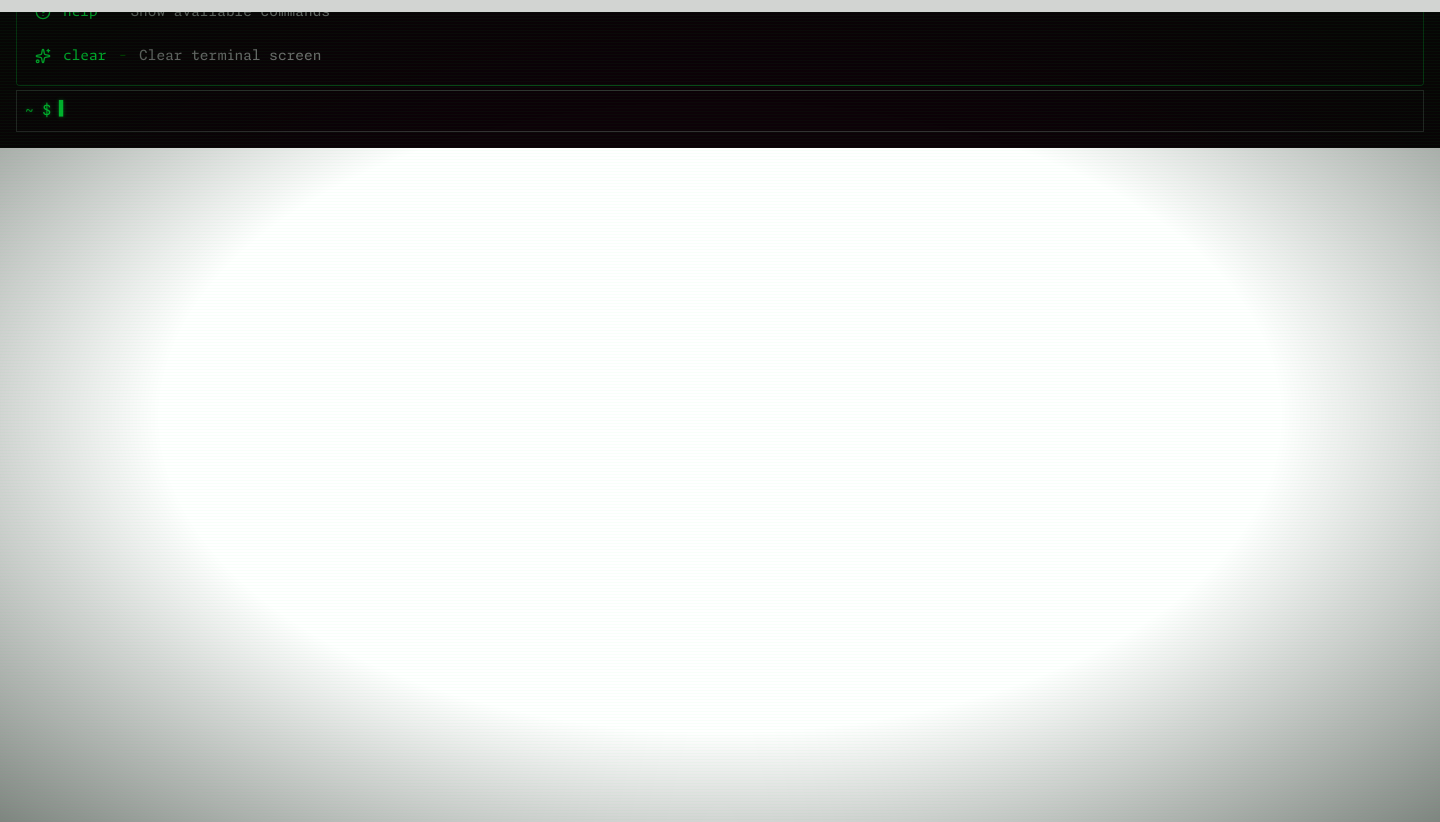
Test case: suggestion filtering (mobile) › filters suggestions by prefix as user types
Type "sk" into the field at (737, 112), box [59,102,1415,122]
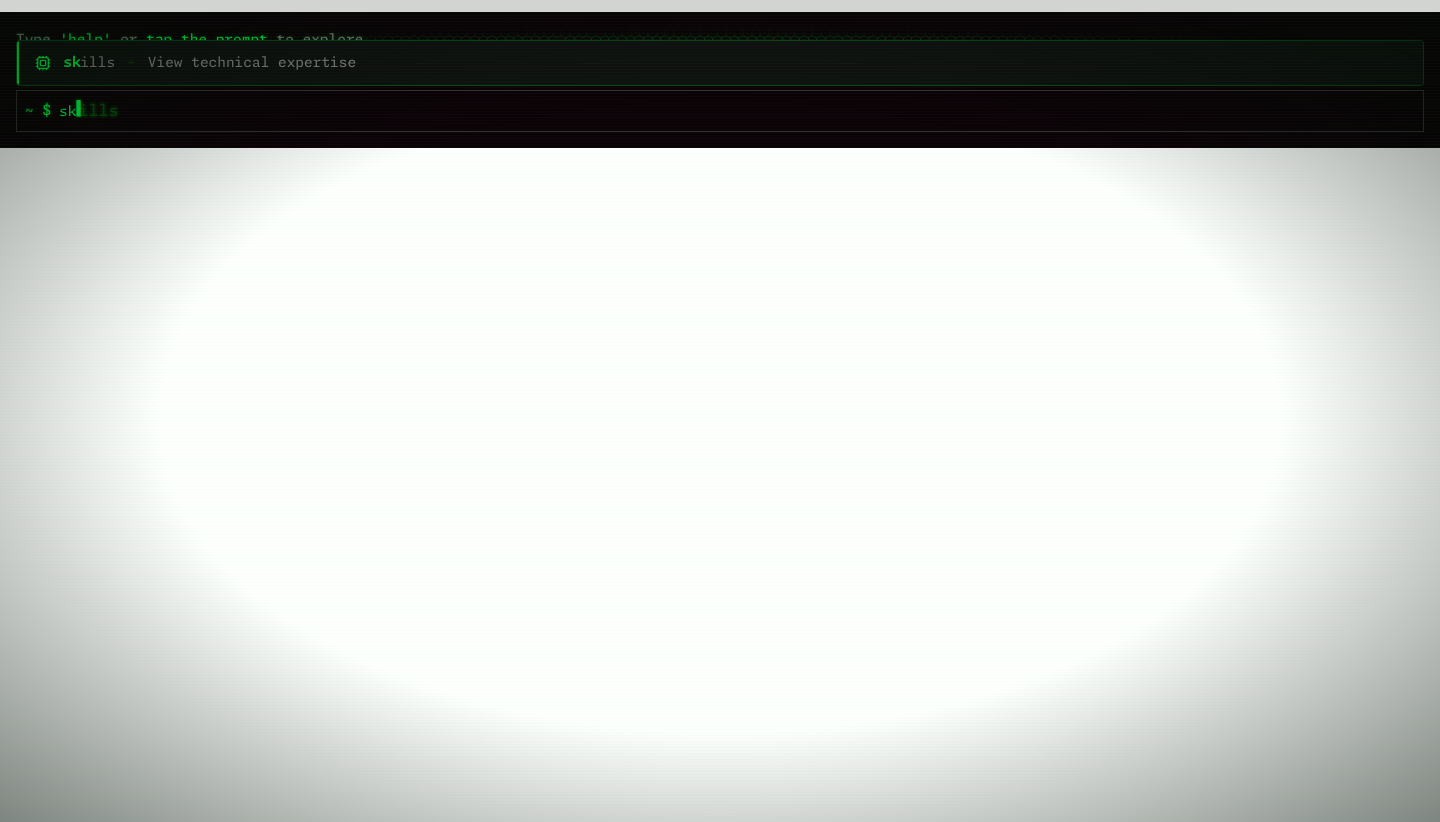
Result: the number of options is 1 at [17,41,1423,85]
